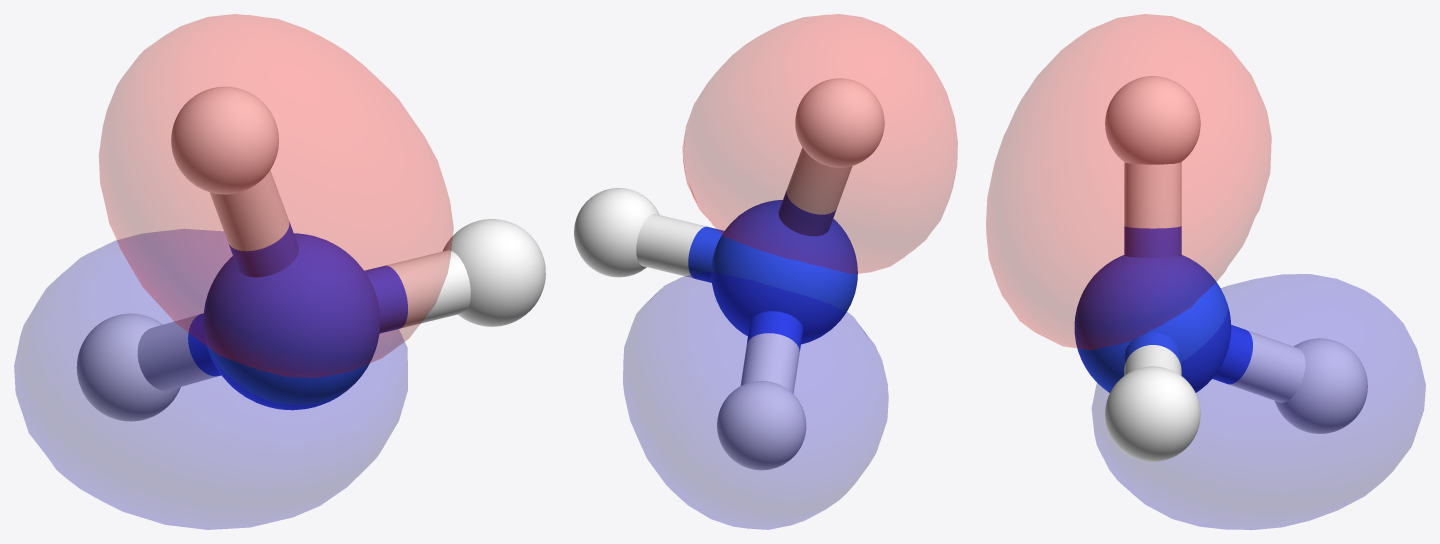
3 views of the same model, side by side, from view 1: azimuth 30°, elevation 25°; view 2: azimuth 150°, elevation 25°; view 3: azimuth 270°, elevation 25° (orthographic). The views are drawn at different scales.
Visible parts, largest first — view 1: surface (×2), atoms, bonds; view 2: surface (×2), atoms, bonds; view 3: surface (×2), atoms, bonds.
Part boxes in pixels (x1,y1,x2,y2): surface (×2): (14,14,453,529); atoms: (76,86,545,421); bonds: (137,170,470,390); surface (×2): (623,14,957,529); atoms: (574,78,884,470); bonds: (636,147,852,393); surface (×2): (986,14,1425,529); atoms: (1074,76,1367,461); bonds: (1124,162,1305,402).
Size of the model in its own units: 2.29 by 2.76 by 2.3.
